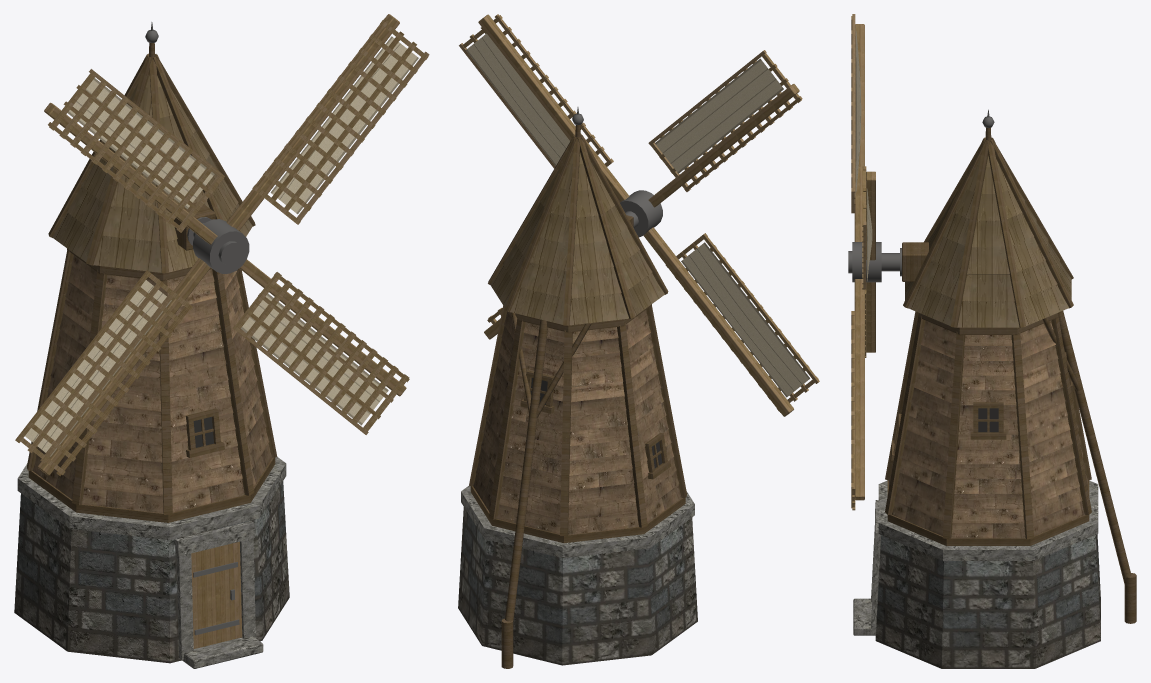
Rendered from windmill.glb.
3 views of the same model, side by side, from view 1: azimuth 30°, elevation 25°; view 2: azimuth 150°, elevation 25°; view 3: azimuth 270°, elevation 25° (orthographic). The views are drawn at different scales.
Parts seen in each view (by area): view 1: prop (×2); view 2: prop (×2); view 3: prop (×2).
Part boxes in pixels (x1,y1,x2,y2): prop (×2): (14, 14, 429, 668); prop (×2): (458, 14, 819, 668); prop (×2): (848, 14, 1136, 668).
Size of what is drawn, in the model's own units: 4.12 by 5.96 by 2.84.
Materials: 12 (9 with a texture image).
